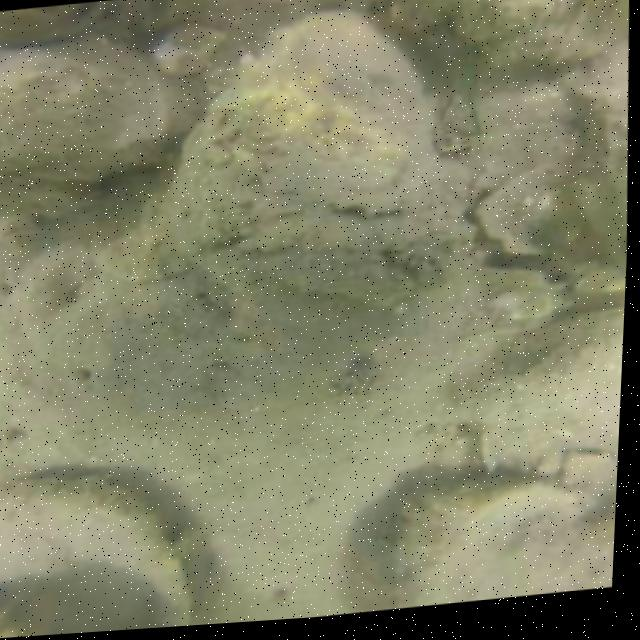Oyster-Indeterminate: (153, 5, 459, 315), (392, 473, 597, 608), (0, 32, 173, 182), (480, 302, 625, 468)
